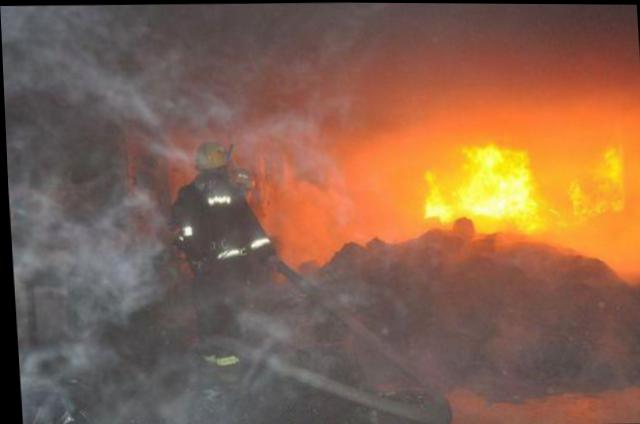fire: (416, 140, 533, 230), (554, 143, 625, 213)
